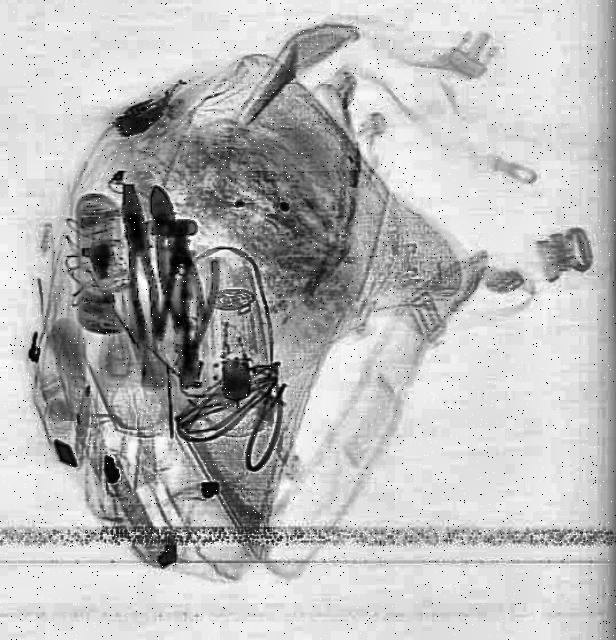Pliers: (139, 182, 211, 334), (113, 184, 165, 344), (170, 258, 222, 388)
